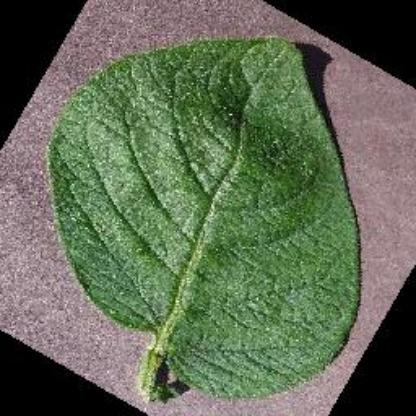Healthy-plant: (40, 32, 390, 402)
